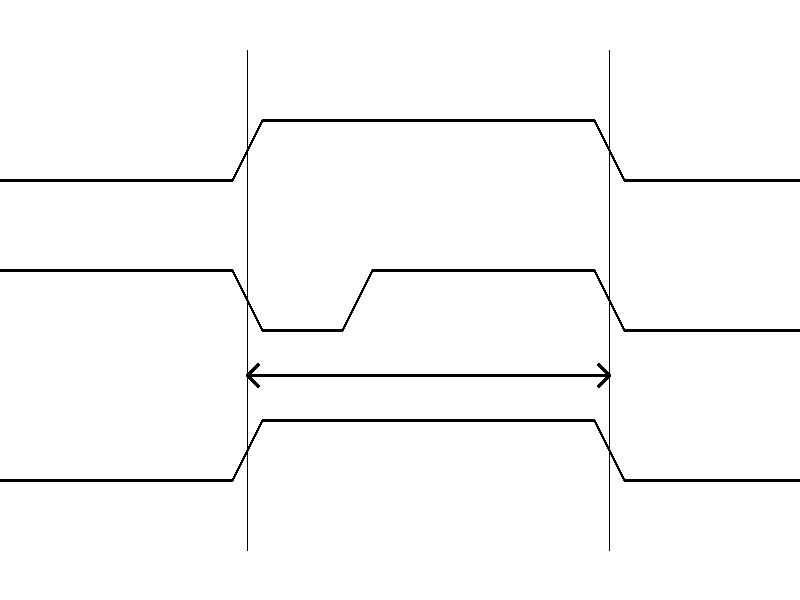double_arrow: (247, 360, 609, 390)
